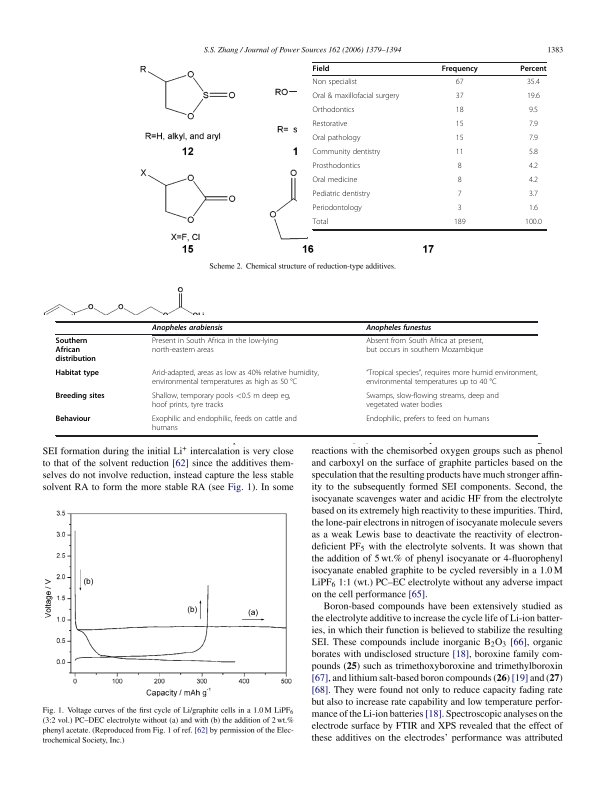borderless: (54, 320, 537, 435), (311, 61, 546, 229)
cell: (365, 369, 538, 388), (151, 369, 320, 388), (151, 415, 298, 434), (151, 392, 291, 411), (365, 392, 500, 411), (151, 337, 279, 356), (365, 337, 484, 356), (365, 415, 490, 425), (54, 337, 97, 365), (312, 92, 400, 102), (312, 148, 381, 158), (151, 324, 224, 333), (365, 324, 432, 333), (312, 190, 371, 200), (54, 392, 106, 402), (312, 204, 363, 214), (312, 134, 361, 144), (312, 162, 361, 172), (54, 369, 100, 379), (312, 78, 358, 88), (312, 176, 358, 186), (312, 106, 355, 116), (54, 415, 91, 425), (312, 120, 348, 130), (441, 65, 479, 74), (519, 65, 547, 74), (524, 218, 543, 228), (312, 218, 329, 228), (312, 65, 330, 74), (526, 78, 541, 88), (526, 92, 541, 102), (453, 218, 466, 228), (528, 106, 539, 116), (528, 120, 539, 130), (528, 134, 539, 144), (528, 148, 539, 158), (528, 162, 539, 172), (528, 176, 539, 186), (528, 190, 539, 200), (528, 204, 539, 214), (455, 78, 464, 88), (455, 92, 464, 102), (455, 106, 464, 116), (455, 120, 464, 130), (455, 134, 464, 144), (455, 148, 464, 158), (457, 162, 463, 172), (457, 176, 463, 186), (457, 190, 463, 200), (457, 204, 463, 214)
